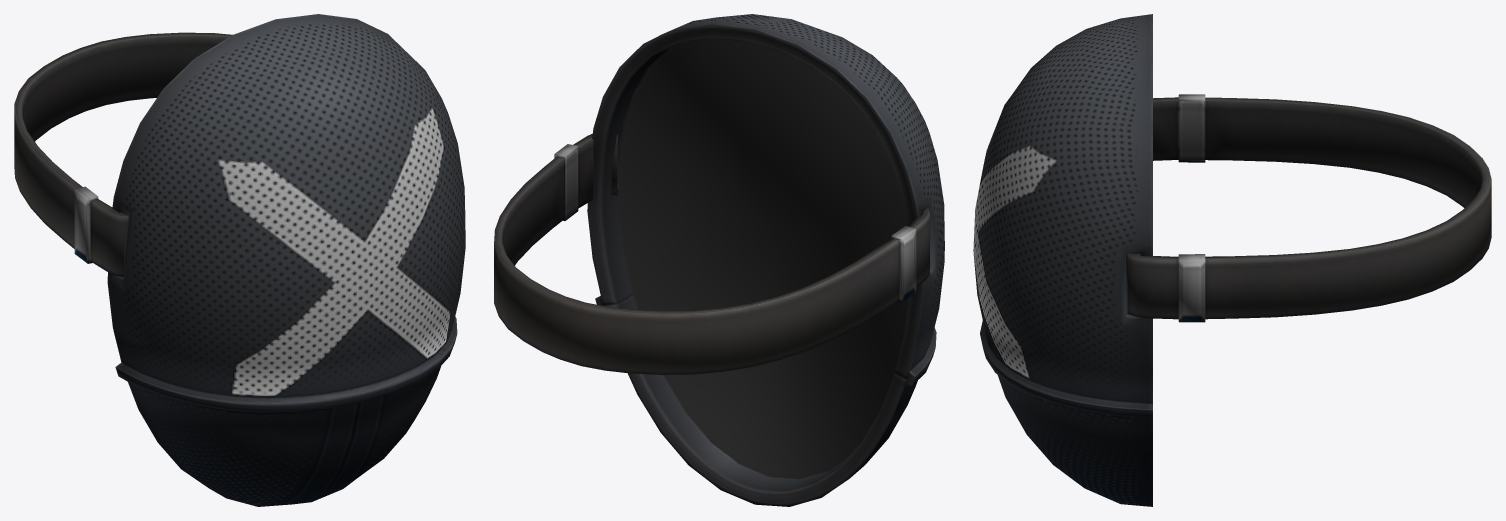
3 views of the same model, side by side, from view 1: azimuth 30°, elevation 25°; view 2: azimuth 150°, elevation 25°; view 3: azimuth 270°, elevation 25° (orthographic). The views are drawn at different scales.
Parts seen in each view (by area): view 1: Wolf3D_Facewear; view 2: Wolf3D_Facewear; view 3: Wolf3D_Facewear.
Boxes of the visible parts, bbox=[...] form: Wolf3D_Facewear: bbox=[14, 14, 465, 506]; Wolf3D_Facewear: bbox=[494, 14, 944, 506]; Wolf3D_Facewear: bbox=[973, 14, 1491, 506].
Bounding box in the file's own units: 0.1815 × 0.2365 × 0.2399.
Materials: 1 (1 with a texture image).
